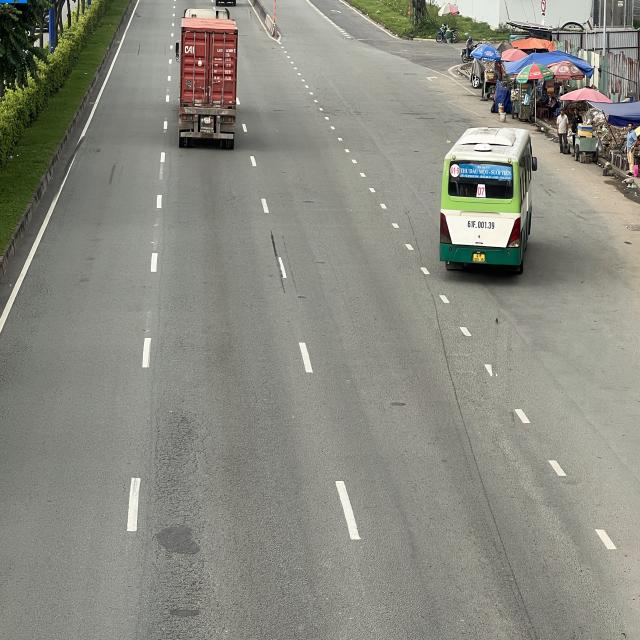coach: (441, 125, 542, 275)
container: (176, 6, 238, 146)
